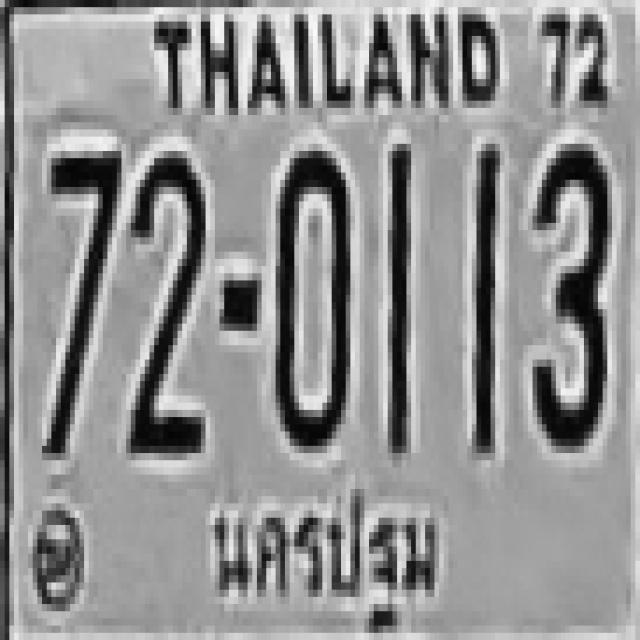0: (271, 144, 346, 446)
1: (470, 144, 498, 446), (383, 144, 406, 453), (383, 144, 406, 431)
2: (126, 148, 201, 442)
3: (528, 137, 607, 446)
7: (45, 144, 119, 453), (47, 144, 117, 431), (47, 147, 117, 356)
NakhonPathom: (206, 484, 454, 633)
